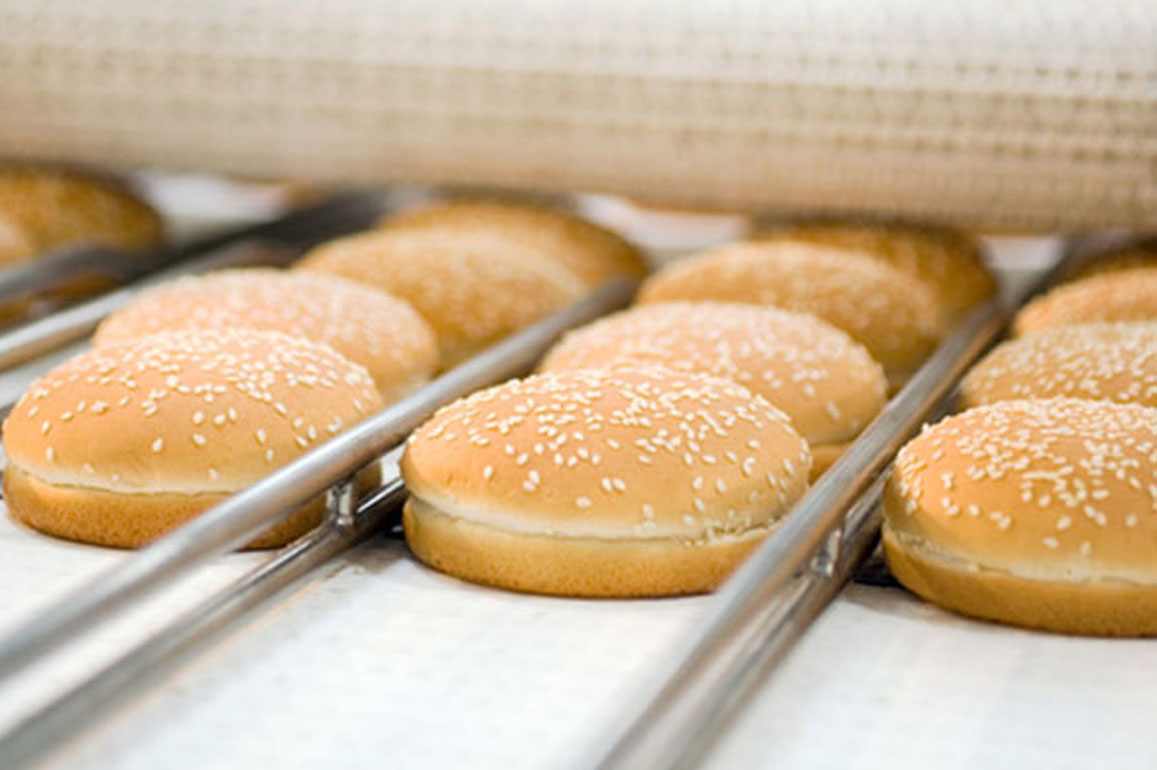hamburger_buns: (10, 244, 466, 524), (386, 352, 834, 598), (920, 240, 1157, 647)
